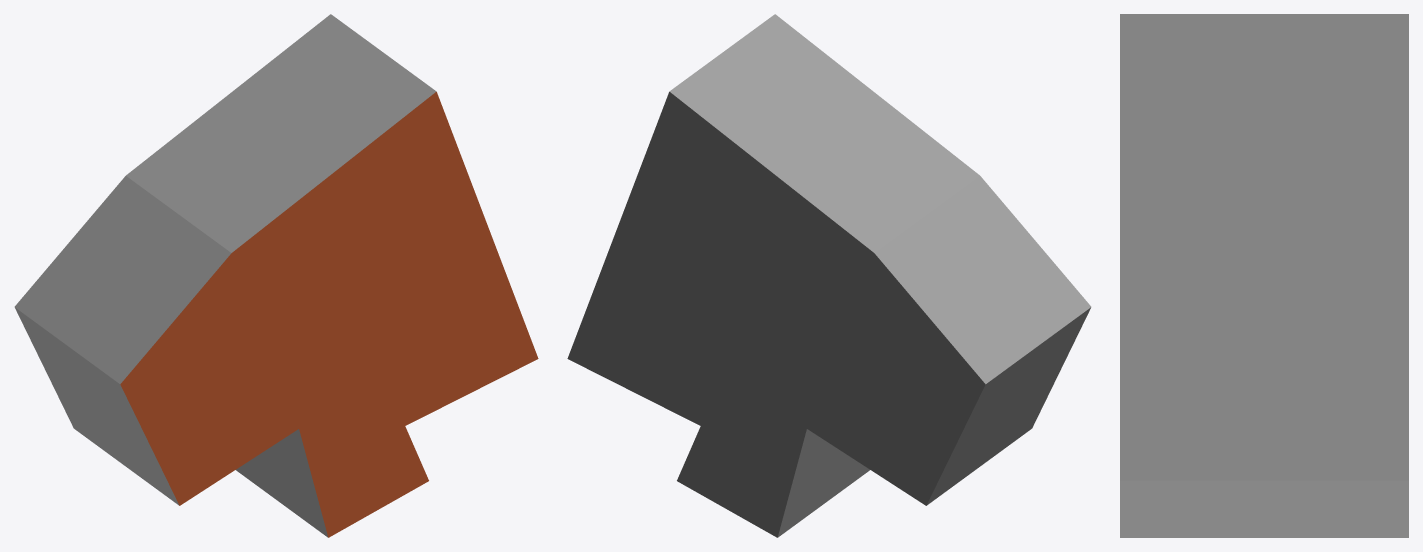
Rendered from construction_2723_assumed_A_Casa_h6m.obj.
3 views of the same model, side by side, from view 1: azimuth 30°, elevation 25°; view 2: azimuth 150°, elevation 25°; view 3: azimuth 270°, elevation 25° (orthographic). The views are drawn at different scales.
Visible parts, largest first — view 1: construction_2723_assumed_A_Casa; view 2: construction_2723_assumed_A_Casa; view 3: construction_2723_assumed_A_Casa.
Boxes of the visible parts, x1=… form: construction_2723_assumed_A_Casa: x1=14, y1=14, x2=538, y2=537; construction_2723_assumed_A_Casa: x1=567, y1=14, x2=1091, y2=537; construction_2723_assumed_A_Casa: x1=1120, y1=14, x2=1408, y2=537.
Bounding box in the file's own units: 13.69 × 13.14 × 6.
